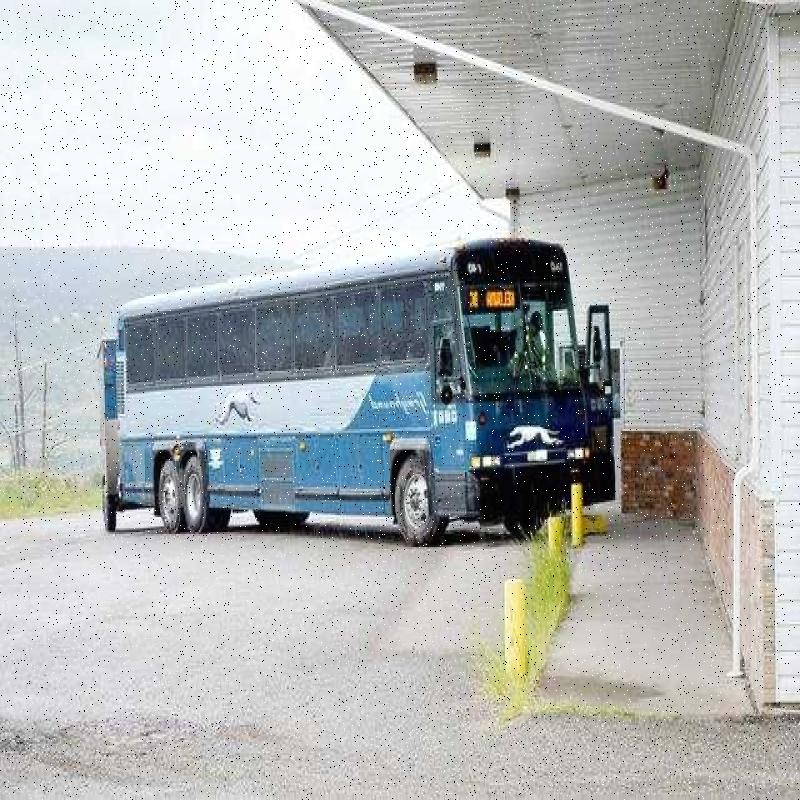bus: (71, 225, 607, 613)
